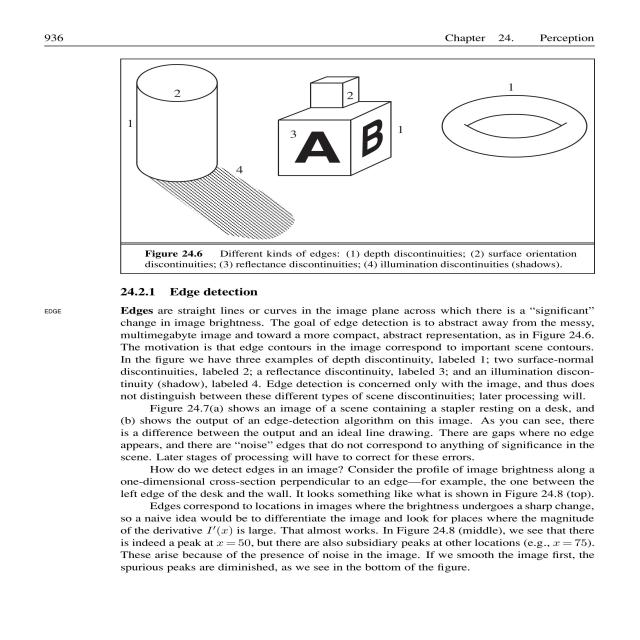diagram: (127, 55, 607, 280)
